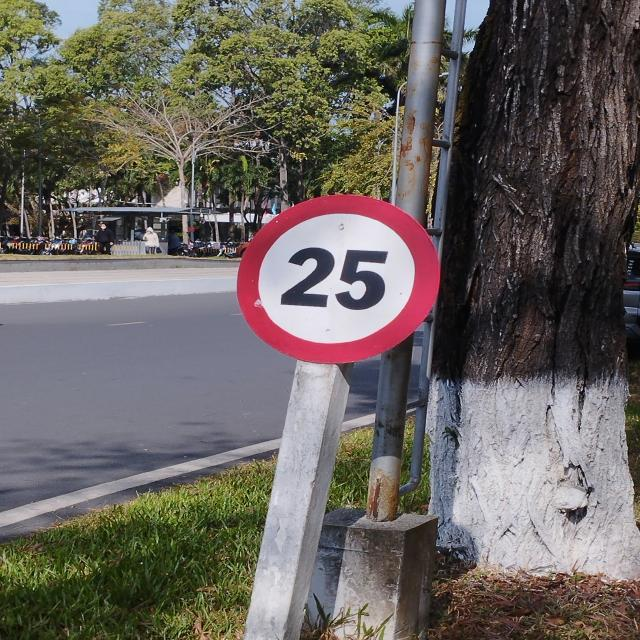Tre_Em: (236, 194, 438, 364)
